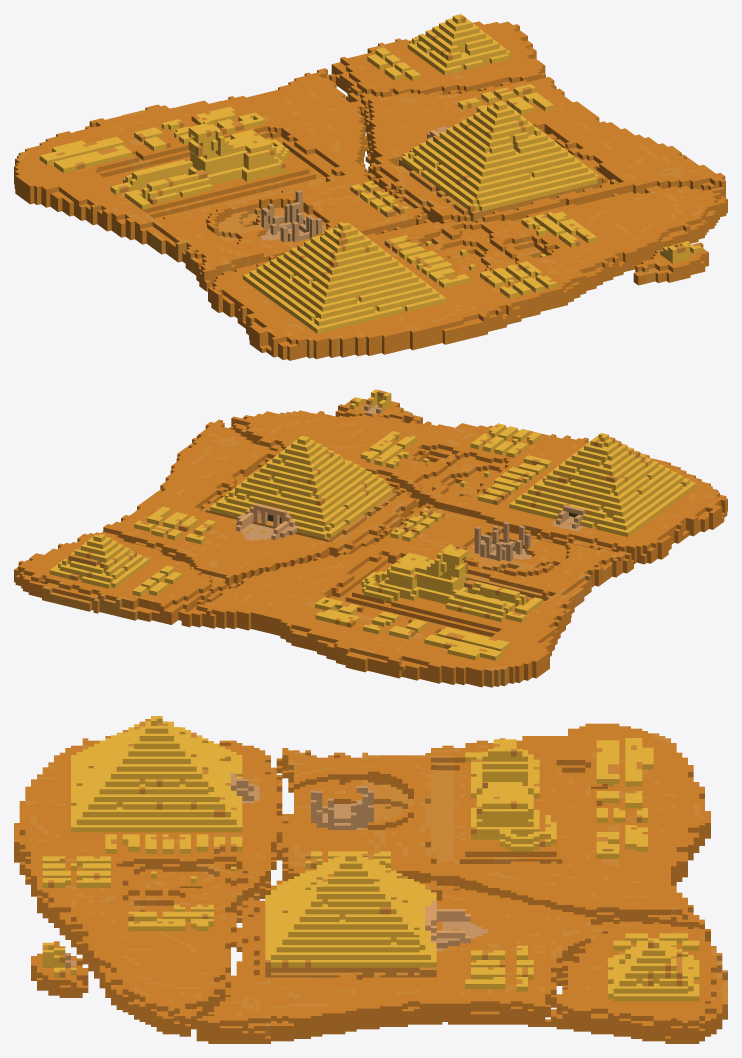
The model's file is Pyramid2Bis.obj.
The picture shows the model from 3 angles, top to bottom: view 1: azimuth 30°, elevation 25°; view 2: azimuth 150°, elevation 25°; view 3: azimuth 270°, elevation 25°; orthographic projection. The views are drawn at different scales.
Bounding box in the file's own units: 12.4 × 1.9 × 12.5.
Materials: 1 (1 with a texture image).
